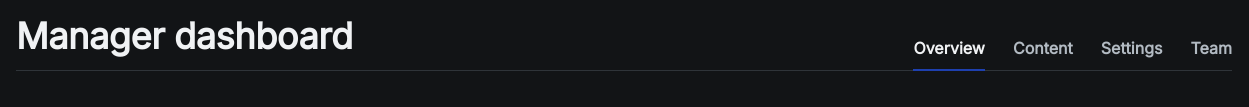
Test case: manager dashboard shell › titles each tab with its h1 in one row with the tabs, and no identity block
(page scrolled)
Expected: the heading "Manager dashboard" is shown, [16,16,353,56]
Expected: the number of headings "Manager dashboard" is 1, [16,16,353,56]
Click the tab "Settings" at (1132,49), box [1101,27,1162,71]
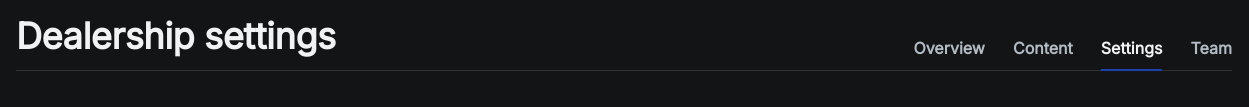
Now the heading "Dealership settings" is shown, box [16,16,336,56]
Click the tab "Team" at (1211,49), box [1190,27,1232,71]
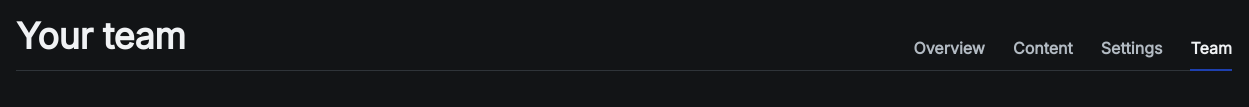
Now the 1st heading "Your team" is shown, box [16,16,186,56]
